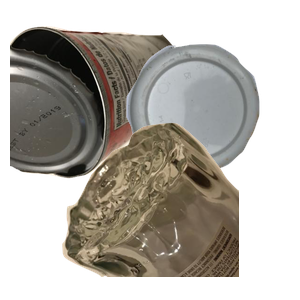glass: (60, 120, 300, 300)
metal: (10, 23, 193, 194)
plastic: (124, 42, 300, 210)
trash: (88, 177, 251, 300)
